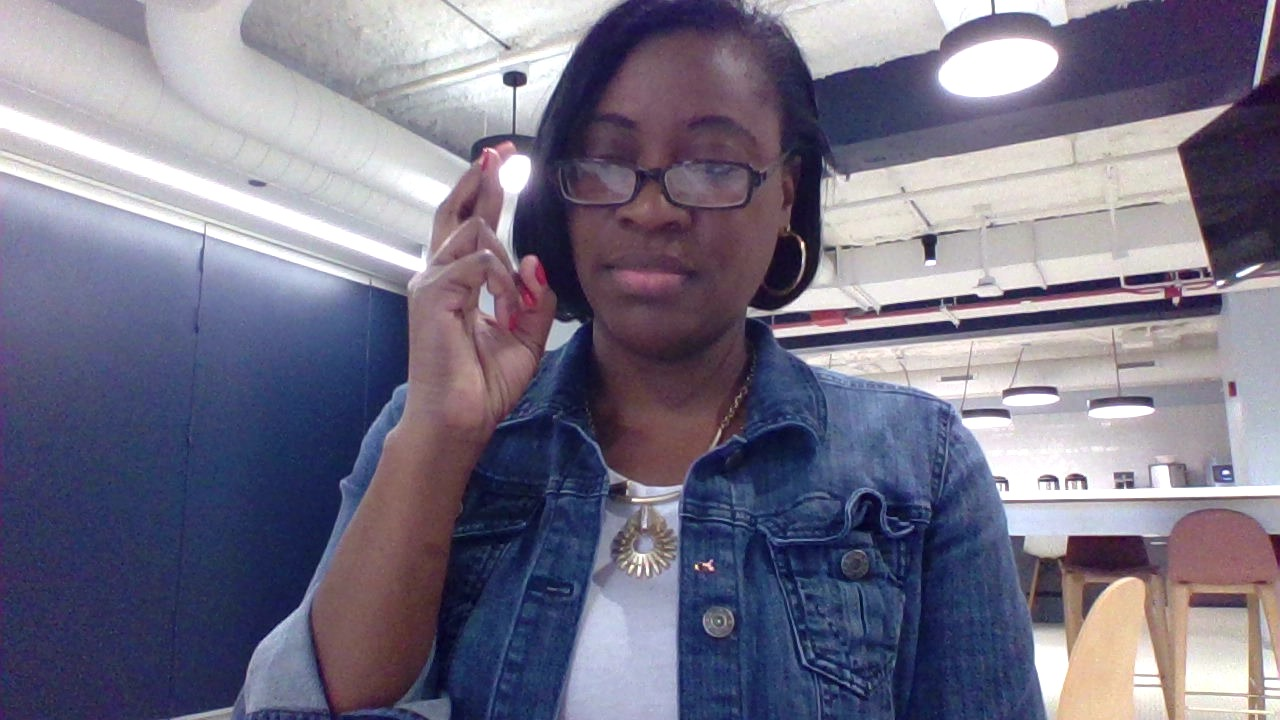r: (387, 126, 570, 444)
